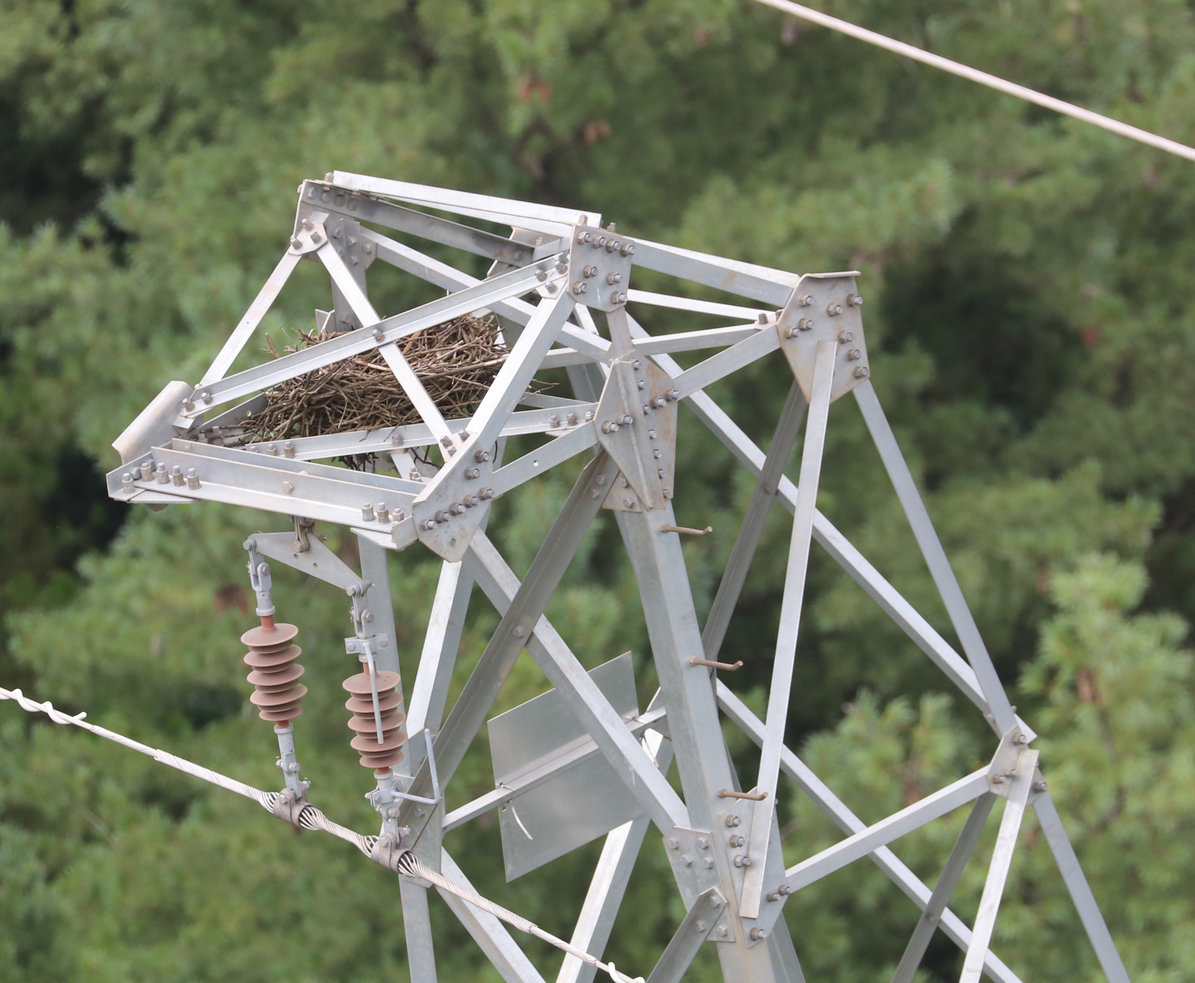nest: (222, 300, 509, 441)
